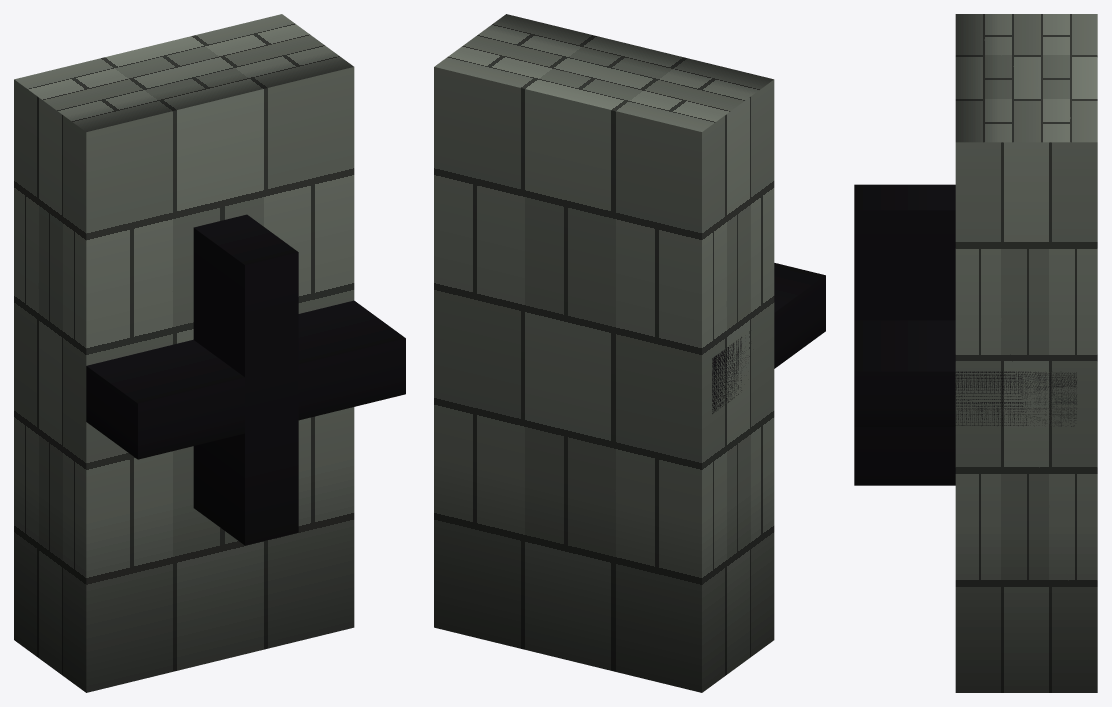
Rendered from arrow_loop.gltf.
The picture shows the model from 3 angles, left to right: view 1: azimuth 30°, elevation 25°; view 2: azimuth 150°, elevation 25°; view 3: azimuth 270°, elevation 25°; orthographic projection.
Parts seen in each view (by area): view 1: arrow_loop; view 2: arrow_loop; view 3: arrow_loop.
Boxes of the visible parts, x1,y1,x2,y2 form: arrow_loop: [14, 14, 405, 692]; arrow_loop: [434, 14, 825, 692]; arrow_loop: [854, 14, 1097, 692].
Bounding box in the file's own units: 0.3 × 0.6 × 0.24.
Materials: 1 (1 with a texture image).
